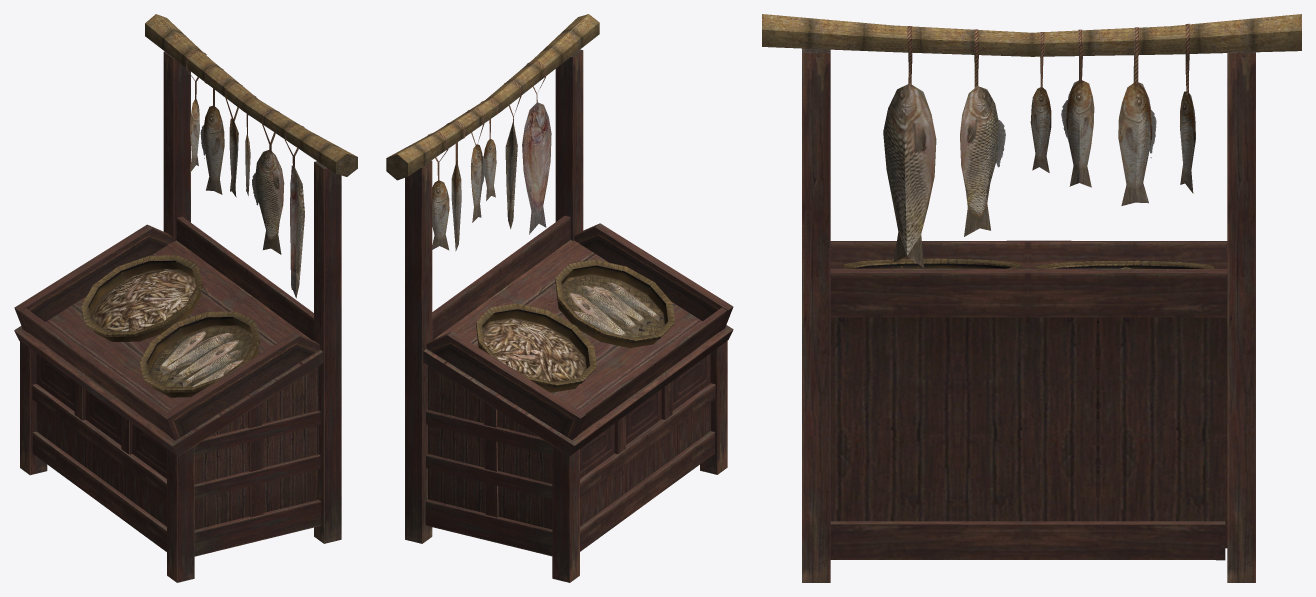
Rendered from fish_tent.obj.
3 views of the same model, side by side, from view 1: azimuth 30°, elevation 25°; view 2: azimuth 150°, elevation 25°; view 3: azimuth 270°, elevation 25° (orthographic). The views are drawn at different scales.
Visible parts, largest first — view 1: fish_tent_a, fish_tent_b; view 2: fish_tent_a, fish_tent_b; view 3: fish_tent_a, fish_tent_b.
Boxes of the visible parts, x1=… form: fish_tent_a: x1=14, y1=14, x2=357, y2=582; fish_tent_b: x1=93, y1=50, x2=304, y2=386; fish_tent_a: x1=386, y1=14, x2=733, y2=582; fish_tent_b: x1=427, y1=60, x2=664, y2=381; fish_tent_a: x1=762, y1=14, x2=1301, y2=582; fish_tent_b: x1=883, y1=23, x2=1195, y2=268.
Bounding box in the file's own units: 0.8338 × 1.86 × 1.59.
Materials: 2 (2 with a texture image).
